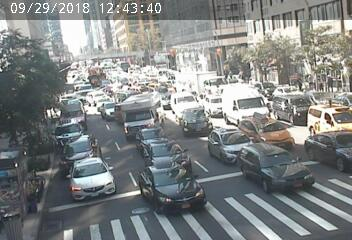car: (249, 148, 302, 189), (226, 85, 274, 124), (151, 168, 202, 201), (276, 84, 313, 120), (72, 164, 115, 193), (123, 93, 153, 132), (215, 123, 243, 158), (250, 116, 285, 143), (145, 142, 187, 164), (317, 134, 352, 159), (179, 109, 212, 130), (315, 106, 347, 127), (163, 94, 200, 110), (60, 99, 89, 119), (63, 140, 95, 157), (198, 75, 224, 91), (205, 94, 226, 111), (56, 125, 81, 138), (139, 131, 161, 144), (88, 92, 112, 102), (100, 105, 117, 118), (82, 70, 104, 80)
